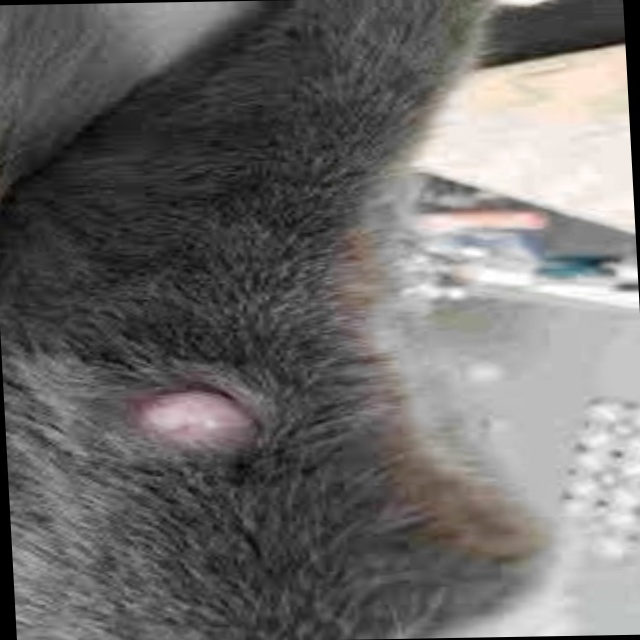lump_and_bump: (124, 374, 271, 458)
